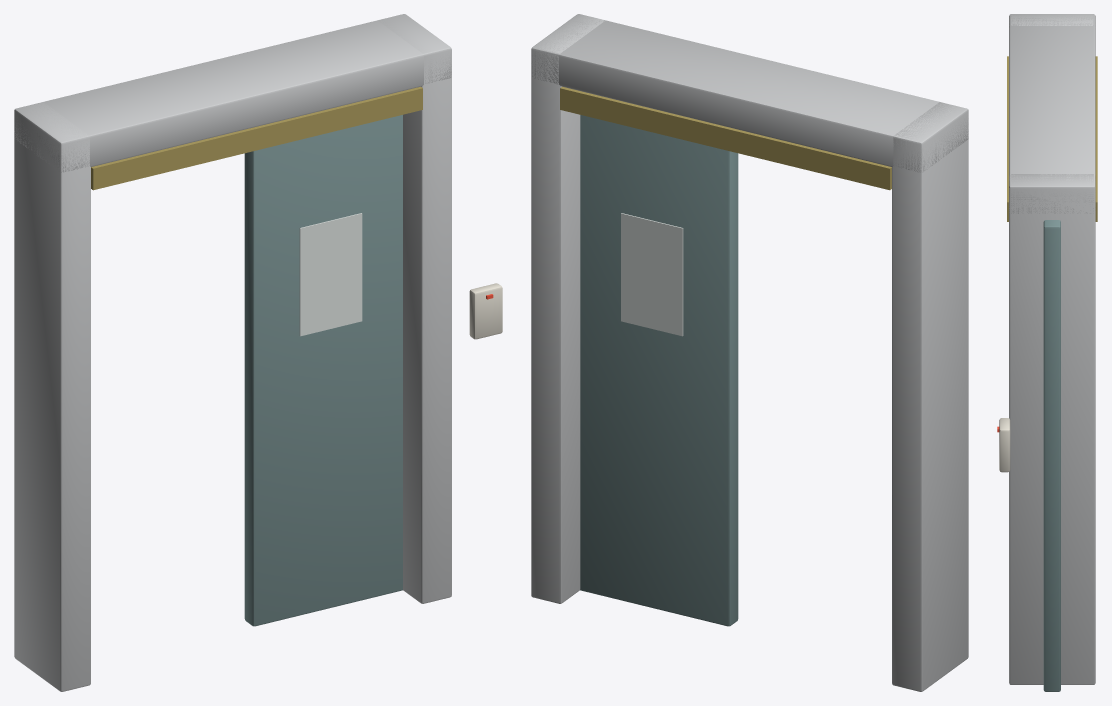
The model's file is security_door.glb.
3 renders of one model, left to right at view 1: azimuth 30°, elevation 25°; view 2: azimuth 150°, elevation 25°; view 3: azimuth 270°, elevation 25°, orthographic. The views are drawn at different scales.
Visible parts, largest first — view 1: security_door; view 2: security_door; view 3: security_door.
Boxes of the visible parts, left/top/right/bottom form: security_door: left=14, top=14, right=502, bottom=691; security_door: left=531, top=14, right=968, bottom=691; security_door: left=997, top=14, right=1097, bottom=691.
Size of what is drawn, in the model's own units: 2.12 by 2.55 by 0.465.
